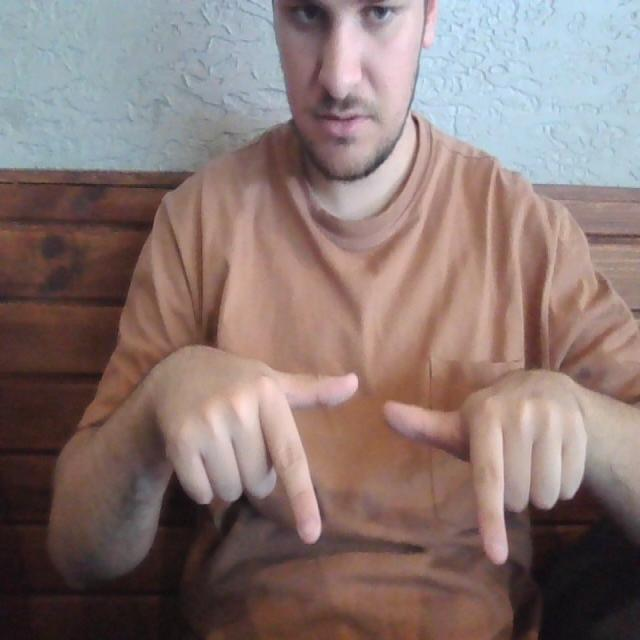Nerede: (257, 358, 515, 578)
